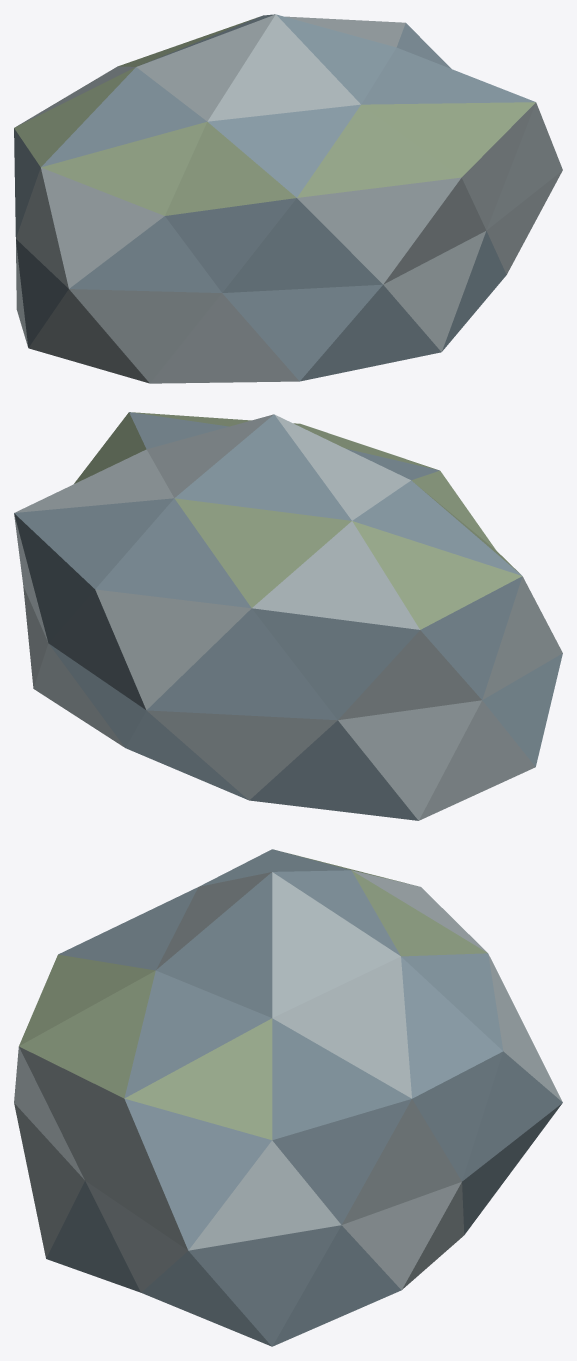
The model's file is rock-2.glb.
3 views of the same model, one above another, from view 1: azimuth 30°, elevation 25°; view 2: azimuth 150°, elevation 25°; view 3: azimuth 270°, elevation 25° (orthographic). The views are drawn at different scales.
Visible parts, largest first — view 1: rock.001; view 2: rock.001; view 3: rock.001.
Part boxes in pixels (x1,y1,x2,y2): rock.001: [14, 14, 562, 383]; rock.001: [14, 412, 562, 820]; rock.001: [14, 849, 562, 1346].
Size of the model in its own units: 7.59 by 4.3 by 6.
